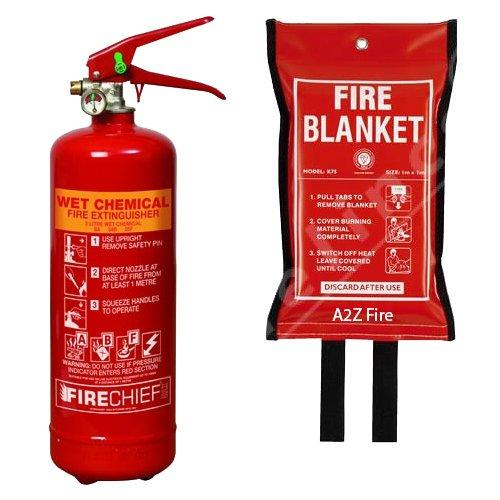Fire Extinguisher: (37, 9, 233, 499)
